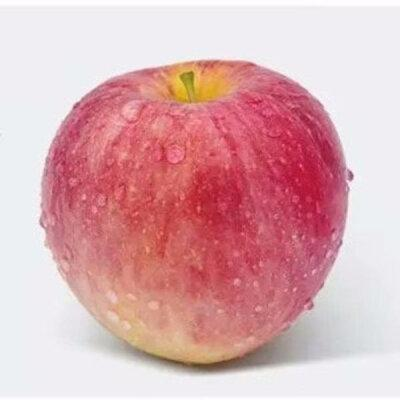apple: (38, 56, 351, 364)
